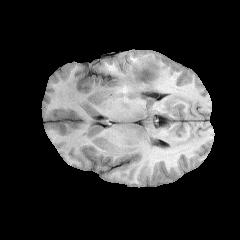glioma: (114, 58, 161, 99)
